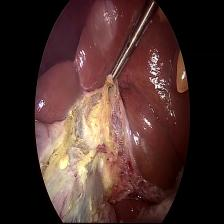Grasper: (110, 0, 156, 93)
